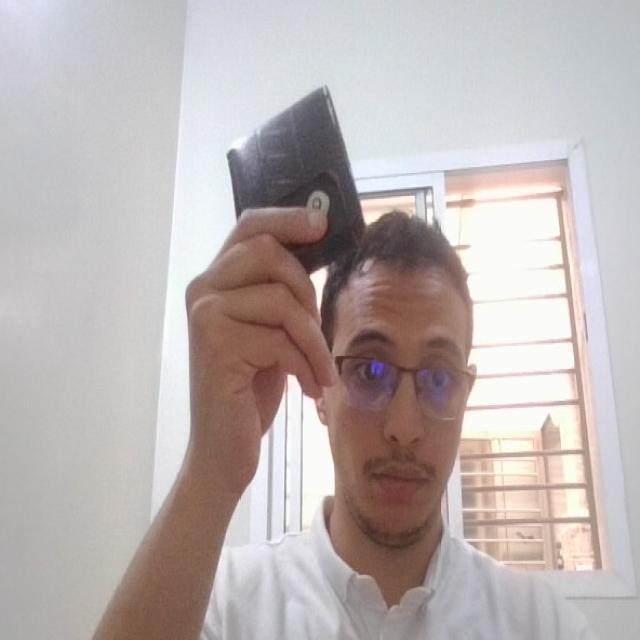wallet: (220, 80, 372, 296)
